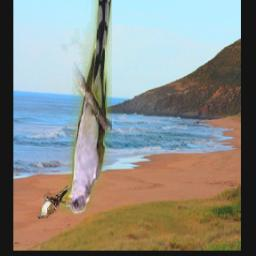Cuckoo: (60, 0, 112, 214), (37, 186, 69, 220)
